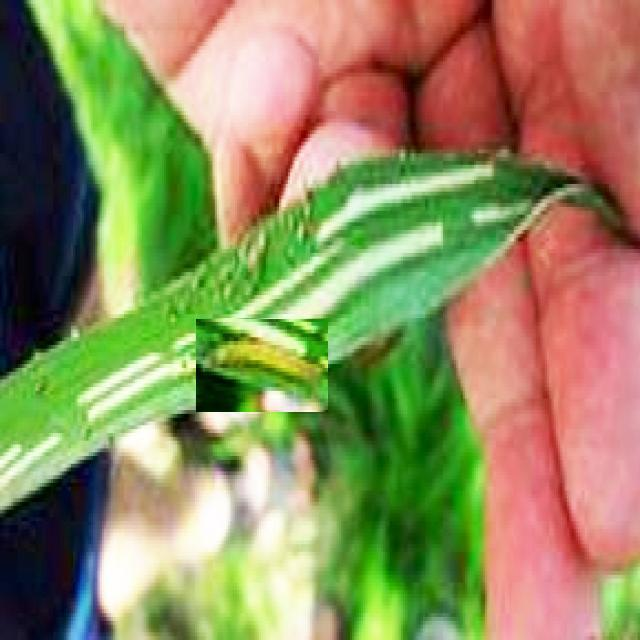leaf-folder: (196, 319, 328, 412)
